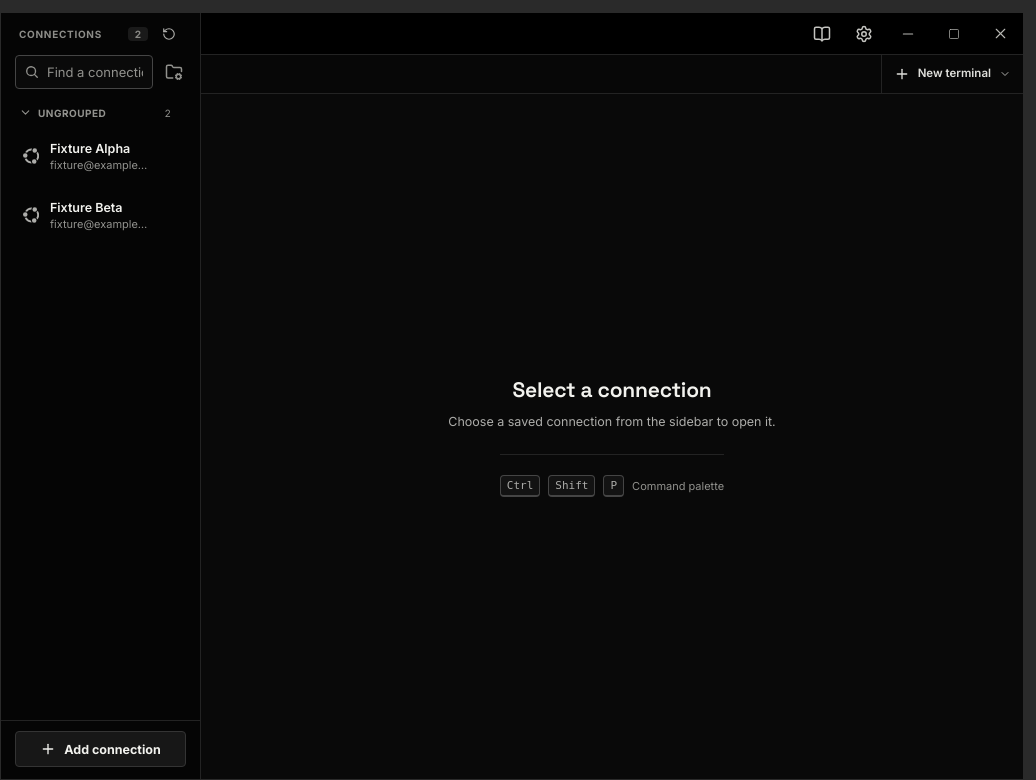
it: complete app journeys with typed IPC fixtures › centers and aligns the sidebar action icons and labels at 960x640
expect the navigation bar named "Saved connections" is shown: met, box x1=11 y1=99 x2=179 y2=244
Click the button "Fixture Alpha fixture@example.invalid" at (95, 156), box x1=11 y1=127 x2=179 y2=185
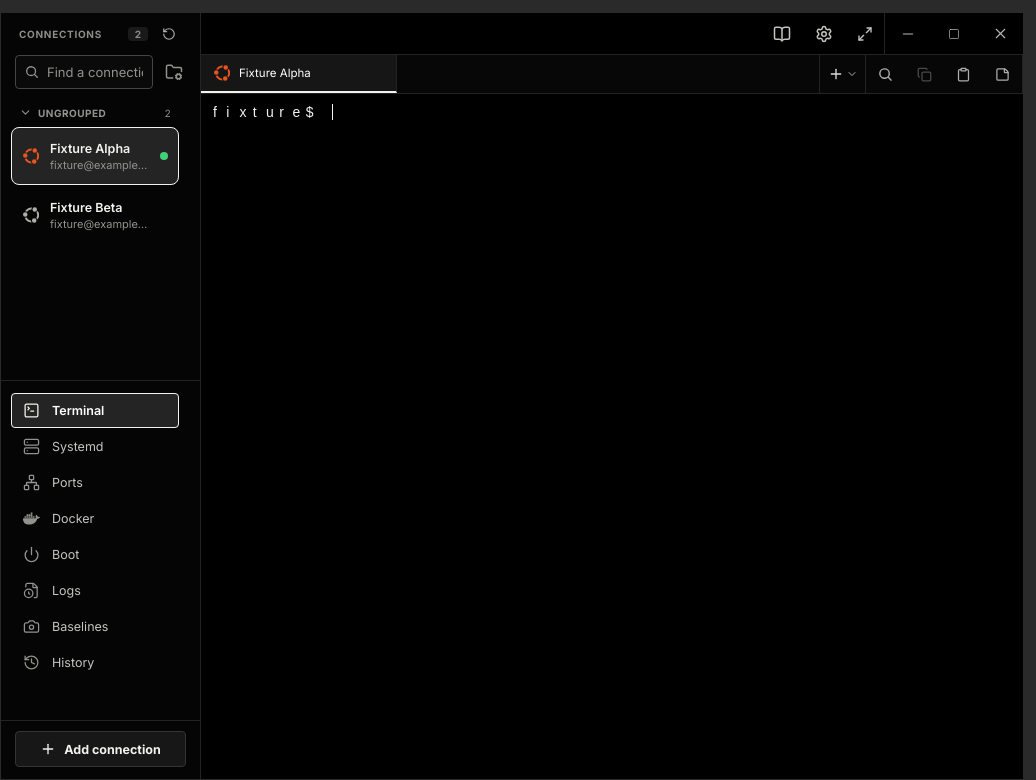
expect the navigation bar named "Workspace features" is shown: met, box x1=11 y1=393 x2=179 y2=680
